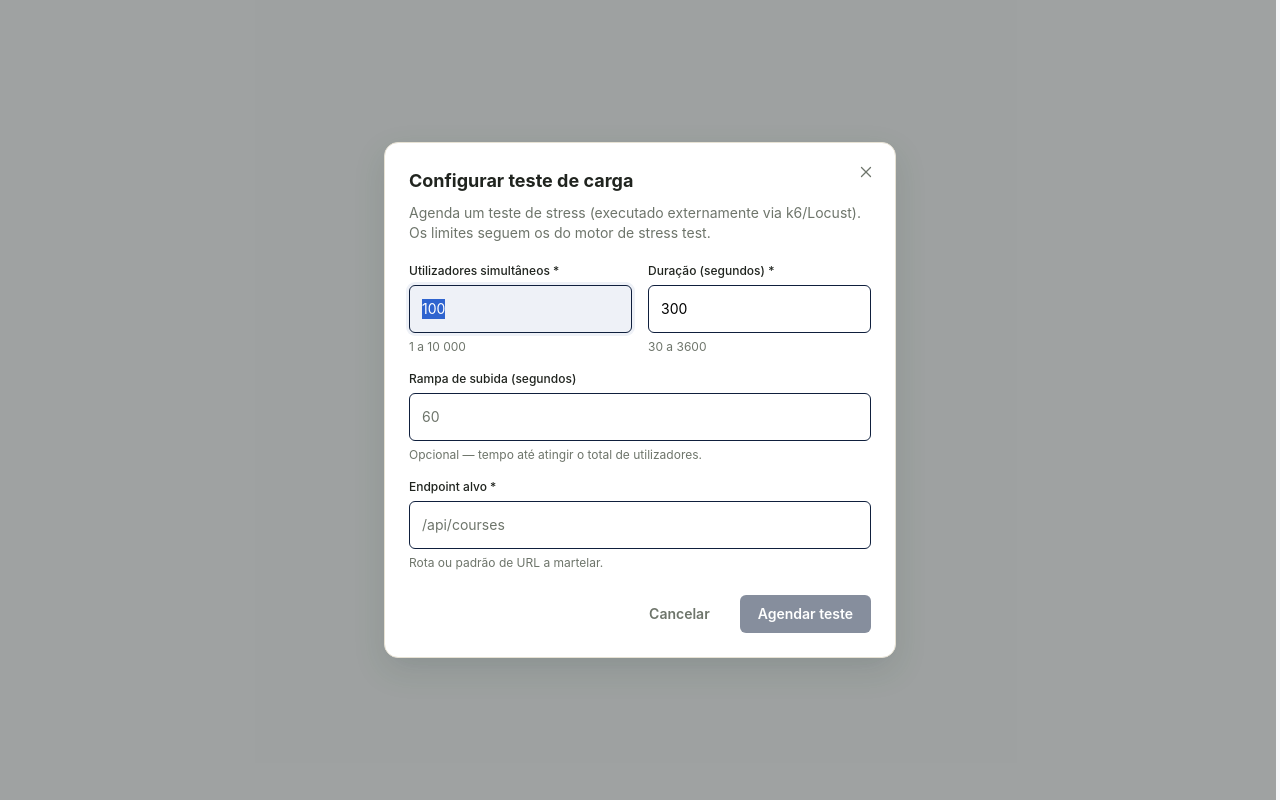
Test: LoadTestModal › rampa opcional inválida bloqueia a submissão
The width and height of the screenshot is (1280, 800).
Type "/x" into the field labelled "Endpoint alvo *" at (640, 525), box [409,501,871,549]
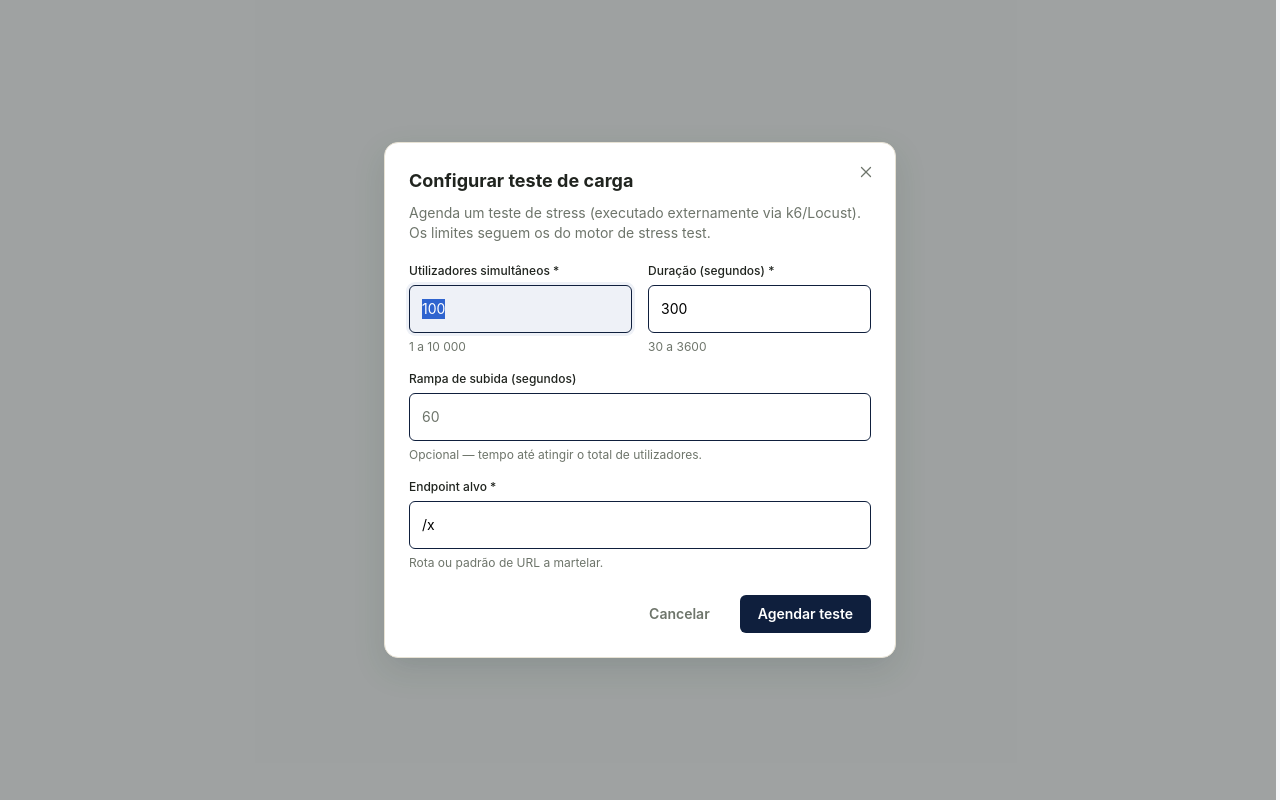
Type "-5" into the field labelled "Rampa de subida (segundos)" at (640, 417), box [409,393,871,441]
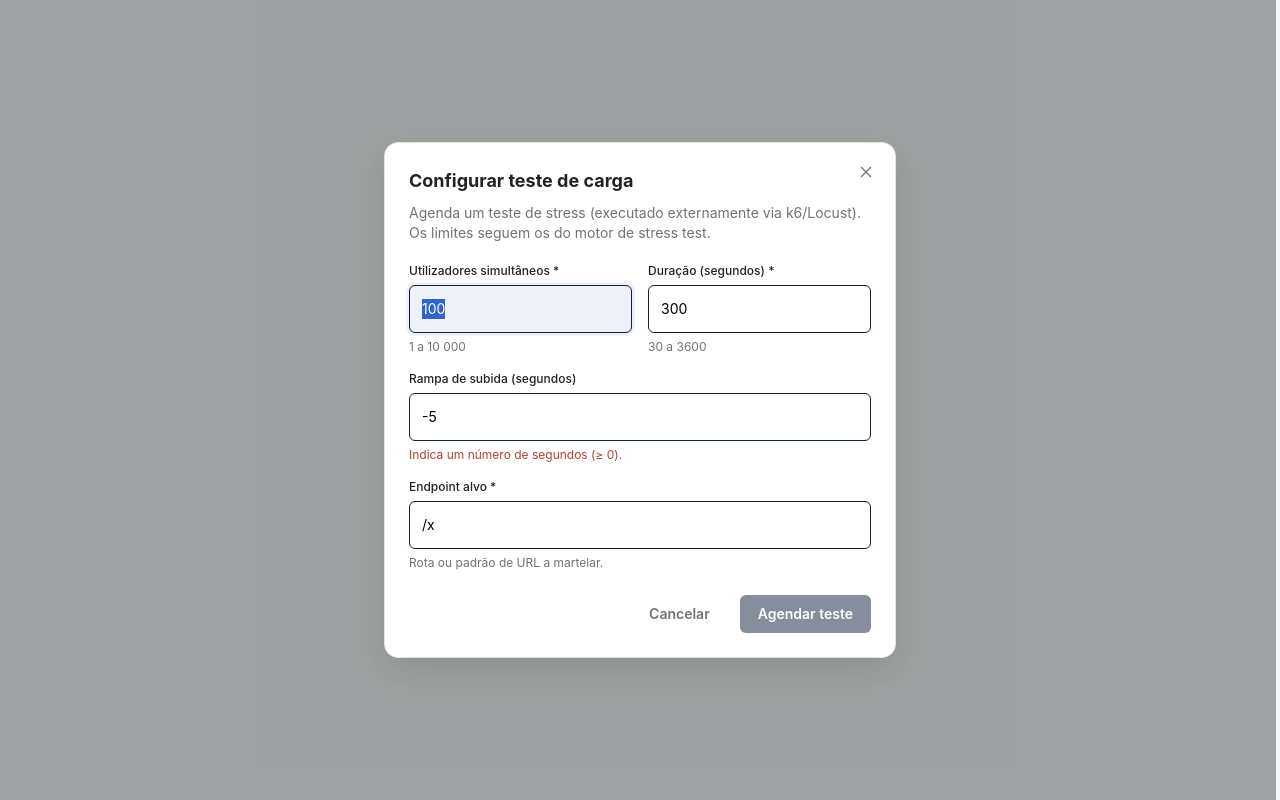
expect the button "Agendar teste" is disabled: met, box [740,595,871,633]
